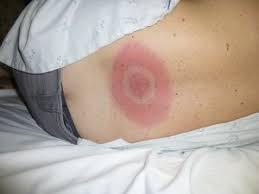Tick: (112, 44, 170, 125)
